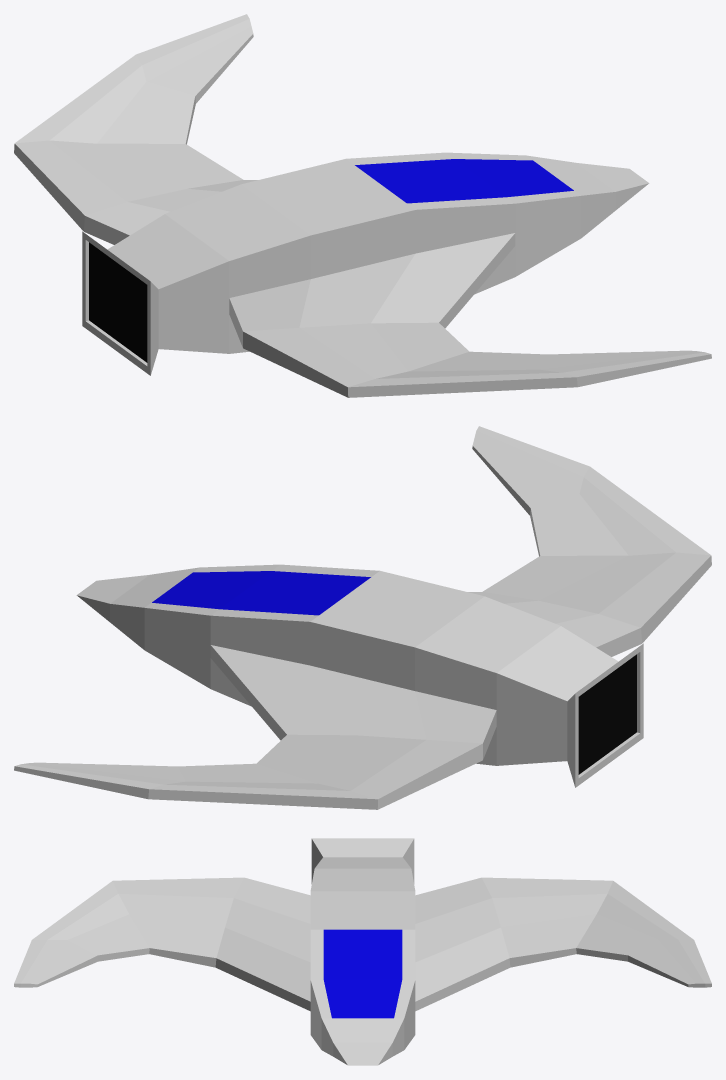
Rendered from one.fbx.
3 renders of one model, top to bottom at view 1: azimuth 30°, elevation 25°; view 2: azimuth 150°, elevation 25°; view 3: azimuth 270°, elevation 25°, orthographic. The views are drawn at different scales.
Visible parts, largest first — view 1: Cube; view 2: Cube; view 3: Cube.
Boxes of the visible parts, bbox=[...] form: Cube: bbox=[14, 14, 711, 397]; Cube: bbox=[14, 426, 711, 809]; Cube: bbox=[14, 838, 711, 1065].
Size of the model in its own units: 15.36 by 2 by 9.98.
